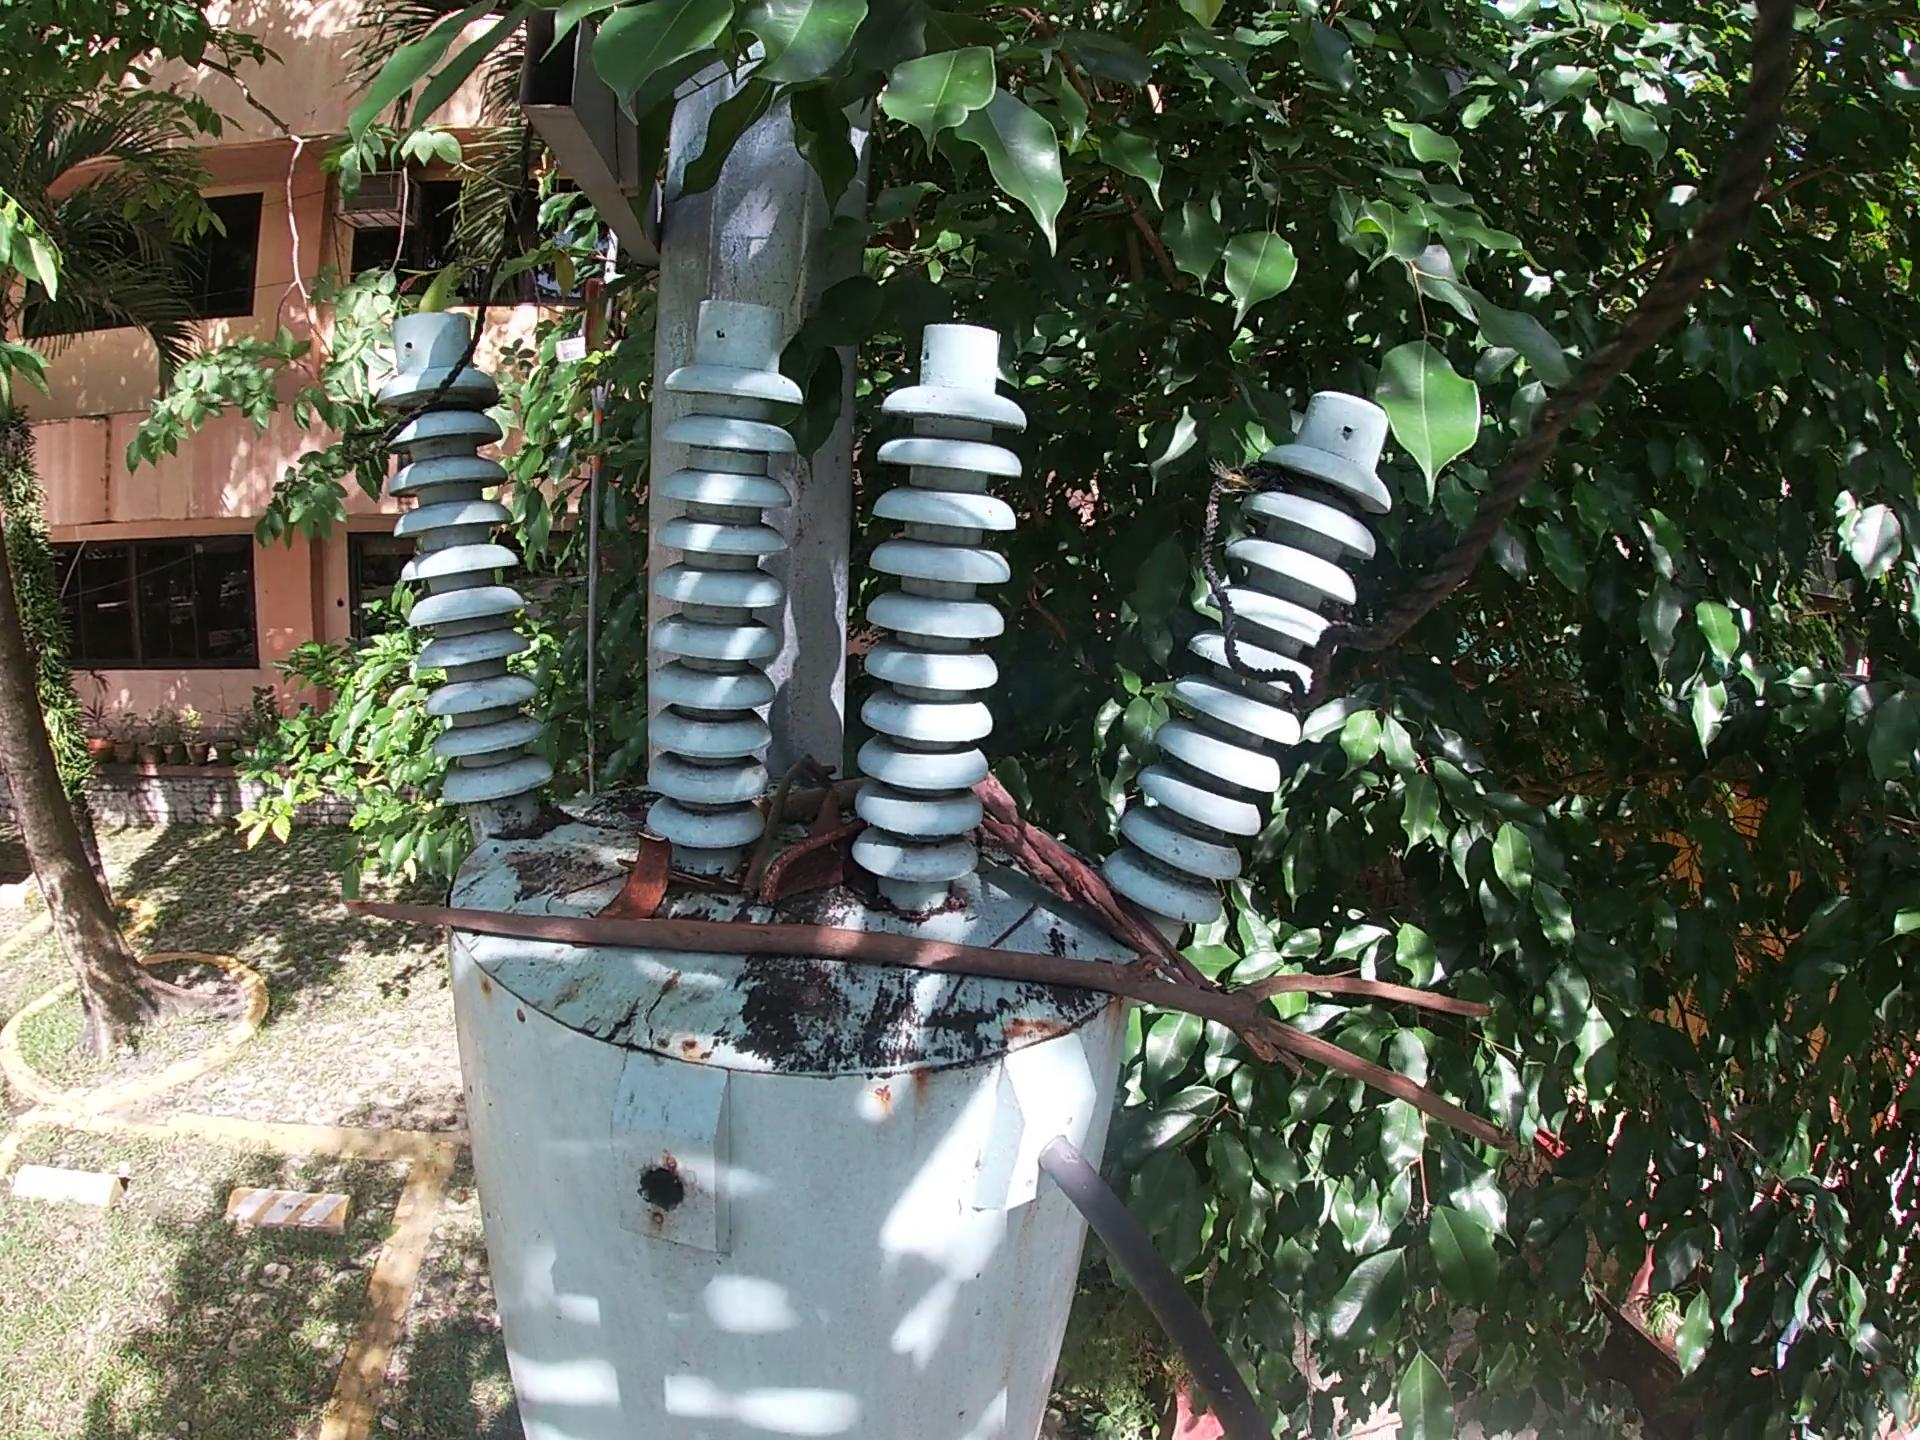leaf: (804, 787, 853, 843)
mahogany fruit: (591, 827, 688, 929), (751, 824, 859, 915)
tree branch: (343, 886, 1531, 1166), (966, 762, 1318, 1078), (745, 746, 835, 886), (747, 774, 872, 835)
